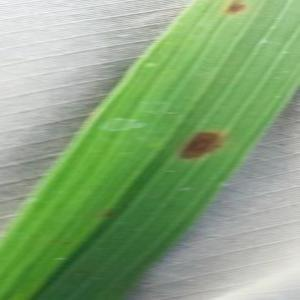Brown_Spot: (172, 126, 231, 165), (216, 1, 253, 20), (117, 200, 134, 211), (101, 208, 116, 220)
